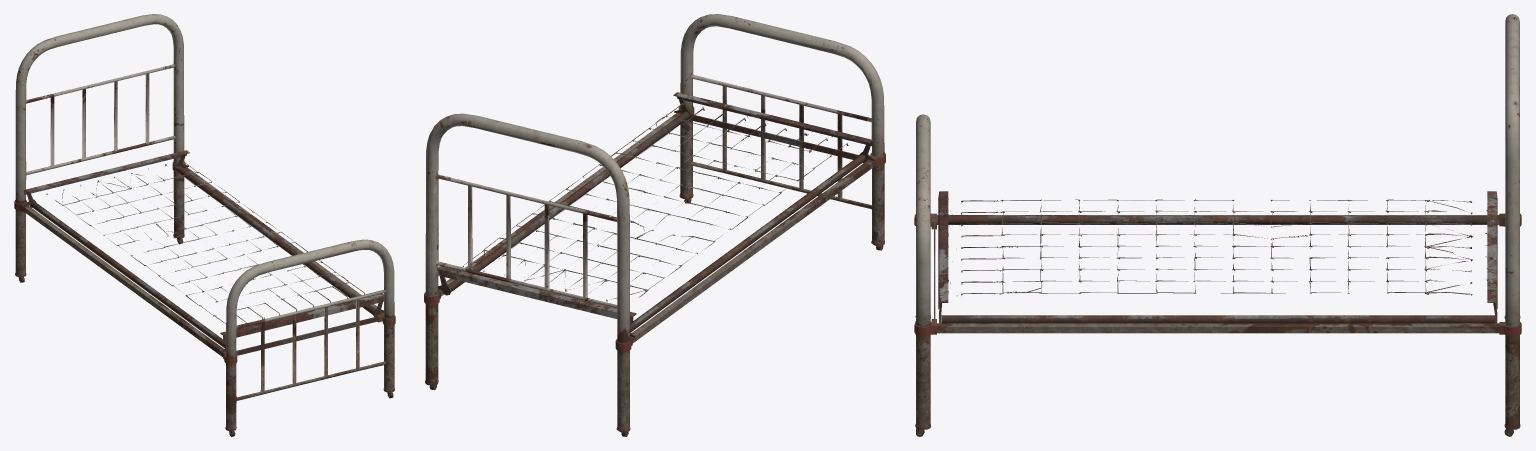
Rendered from old_bed_frame.glb.
The picture shows the model from 3 angles, left to right: view 1: azimuth 30°, elevation 25°; view 2: azimuth 150°, elevation 25°; view 3: azimuth 270°, elevation 25°; orthographic projection. The views are drawn at different scales.
Parts seen in each view (by area): view 1: old_bed_frame; view 2: old_bed_frame; view 3: old_bed_frame.
Part boxes in pixels (<box>): old_bed_frame: <box>14,14,395,436</box>; old_bed_frame: <box>424,14,885,436</box>; old_bed_frame: <box>914,14,1521,436</box>.
Bounding box in the file's own units: 0.9046 × 1.2 × 2.
1 material, 1 textured.
